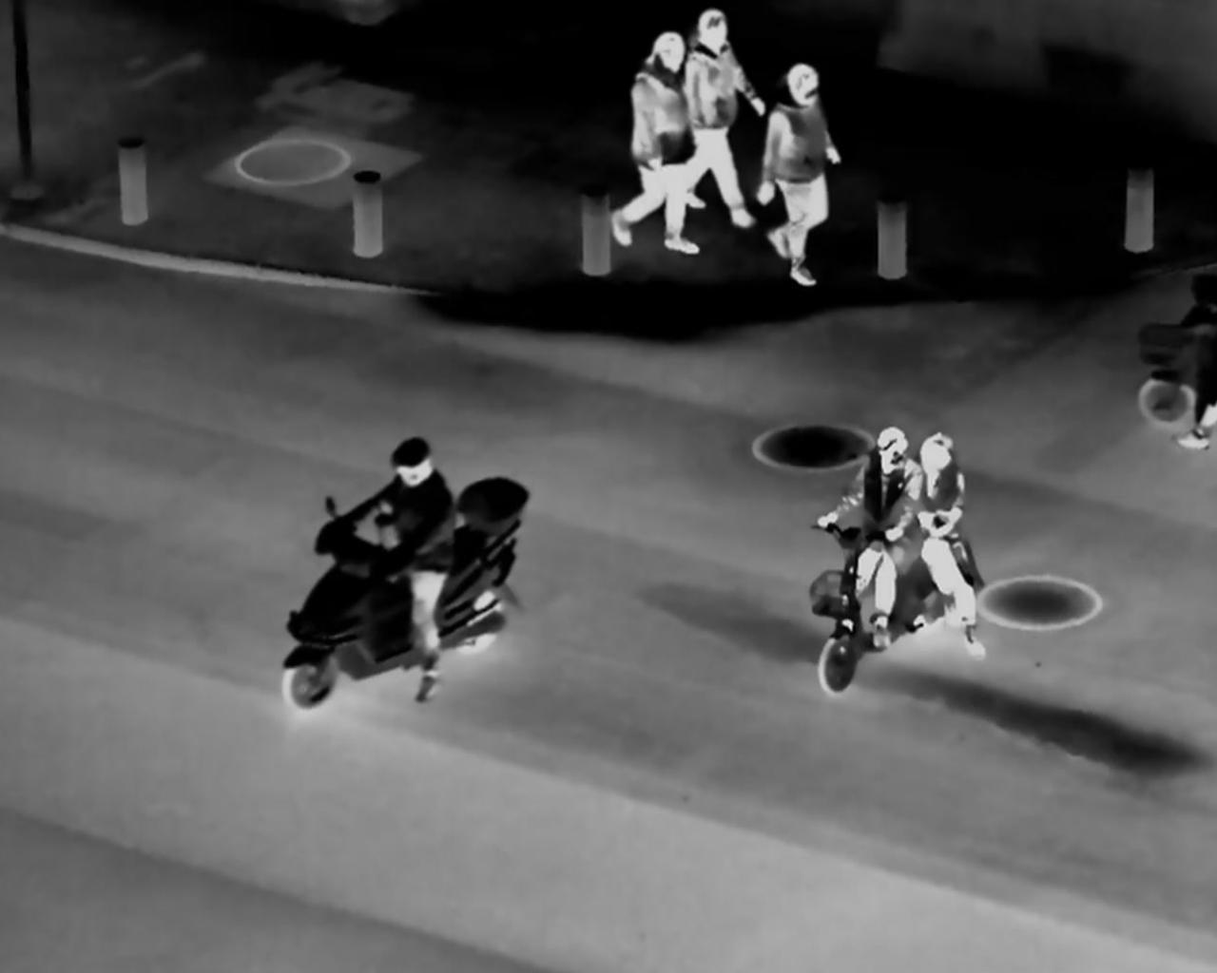person: (316, 428, 460, 715), (755, 45, 846, 322), (824, 417, 919, 648), (902, 428, 993, 662), (617, 26, 704, 269), (680, 11, 758, 238)
